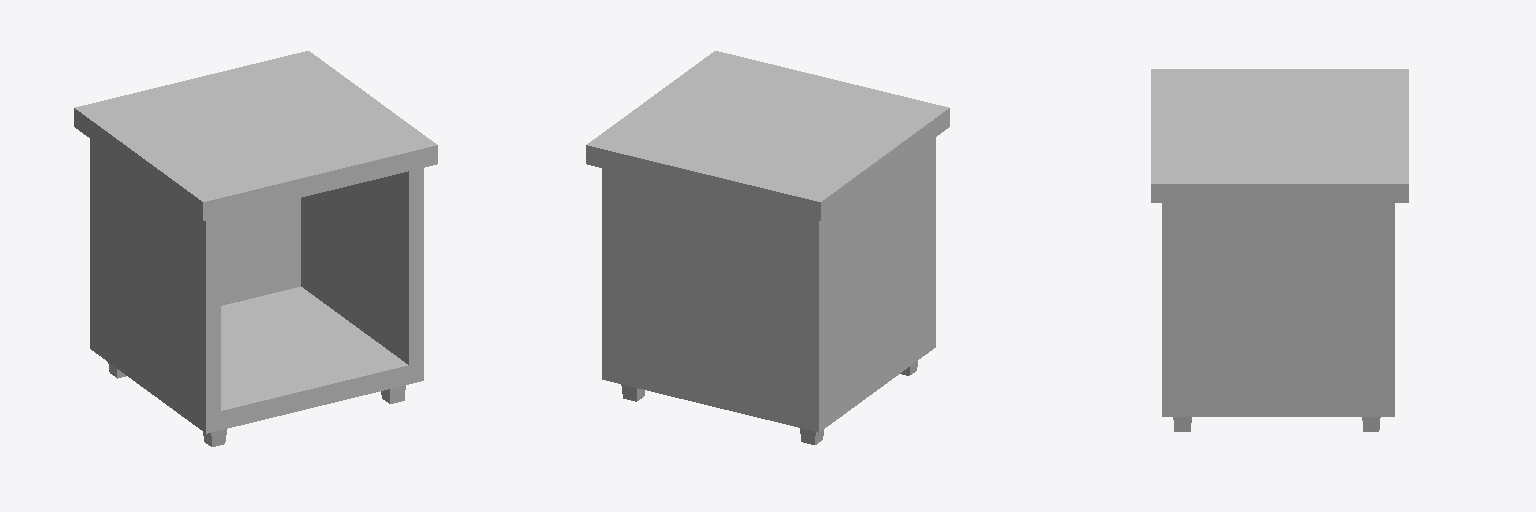
File: locker.obj
The picture shows the model from 3 angles: view 1: azimuth 30°, elevation 25°; view 2: azimuth 150°, elevation 25°; view 3: azimuth 270°, elevation 25°; orthographic projection.
Parts seen in each view (by area): view 1: Cube; view 2: Cube; view 3: Cube.
Boxes of the visible parts, x1=… form: Cube: x1=74, y1=51, x2=437, y2=446; Cube: x1=586, y1=51, x2=949, y2=444; Cube: x1=1151, y1=69, x2=1408, y2=431.
Bounding box in the file's own units: 2.16 × 2.28 × 2.06.